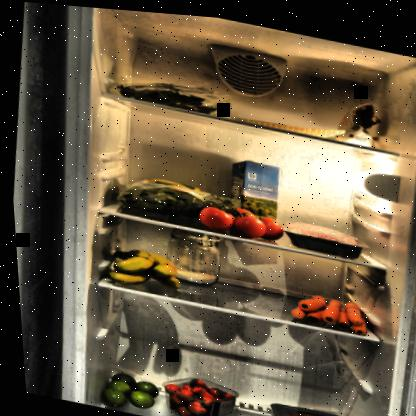banana: (99, 241, 180, 294)
beef: (257, 395, 362, 415)
carrot: (283, 284, 371, 332)
green_beans: (114, 70, 234, 116)
ground_beef: (276, 213, 370, 255)
lime: (92, 367, 156, 414)
milk: (222, 151, 281, 229)
spinach: (110, 167, 225, 226)
strawberries: (152, 367, 237, 415)
tomato: (192, 194, 286, 244)
